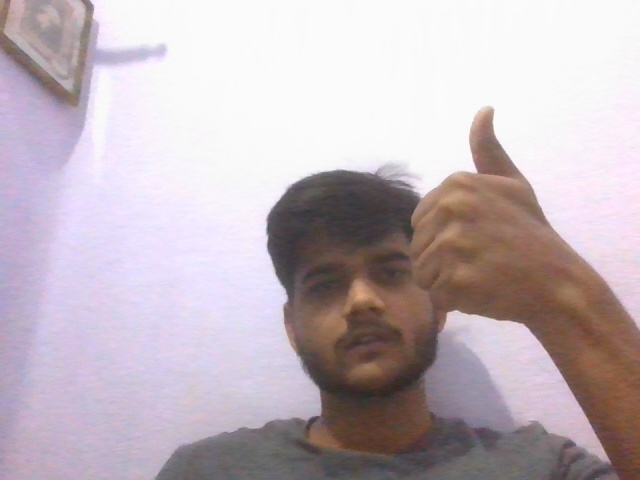thanks: (388, 95, 611, 357)
